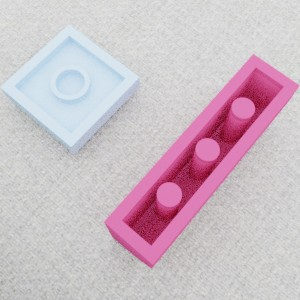lego: (103, 53, 300, 268), (0, 24, 139, 154)
